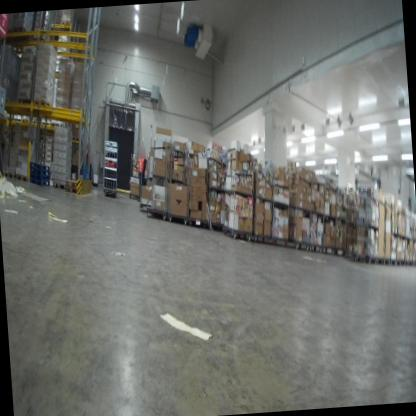pallet: (12, 117, 84, 144), (12, 24, 34, 46), (28, 160, 51, 175), (29, 171, 51, 184), (32, 98, 54, 110), (17, 95, 35, 109), (30, 165, 51, 177), (29, 178, 50, 189), (3, 168, 18, 182), (63, 177, 79, 189), (52, 179, 66, 192), (14, 172, 28, 184), (60, 20, 73, 31), (65, 184, 78, 194), (50, 121, 62, 130), (31, 120, 43, 128), (20, 118, 31, 126), (42, 121, 52, 129)
